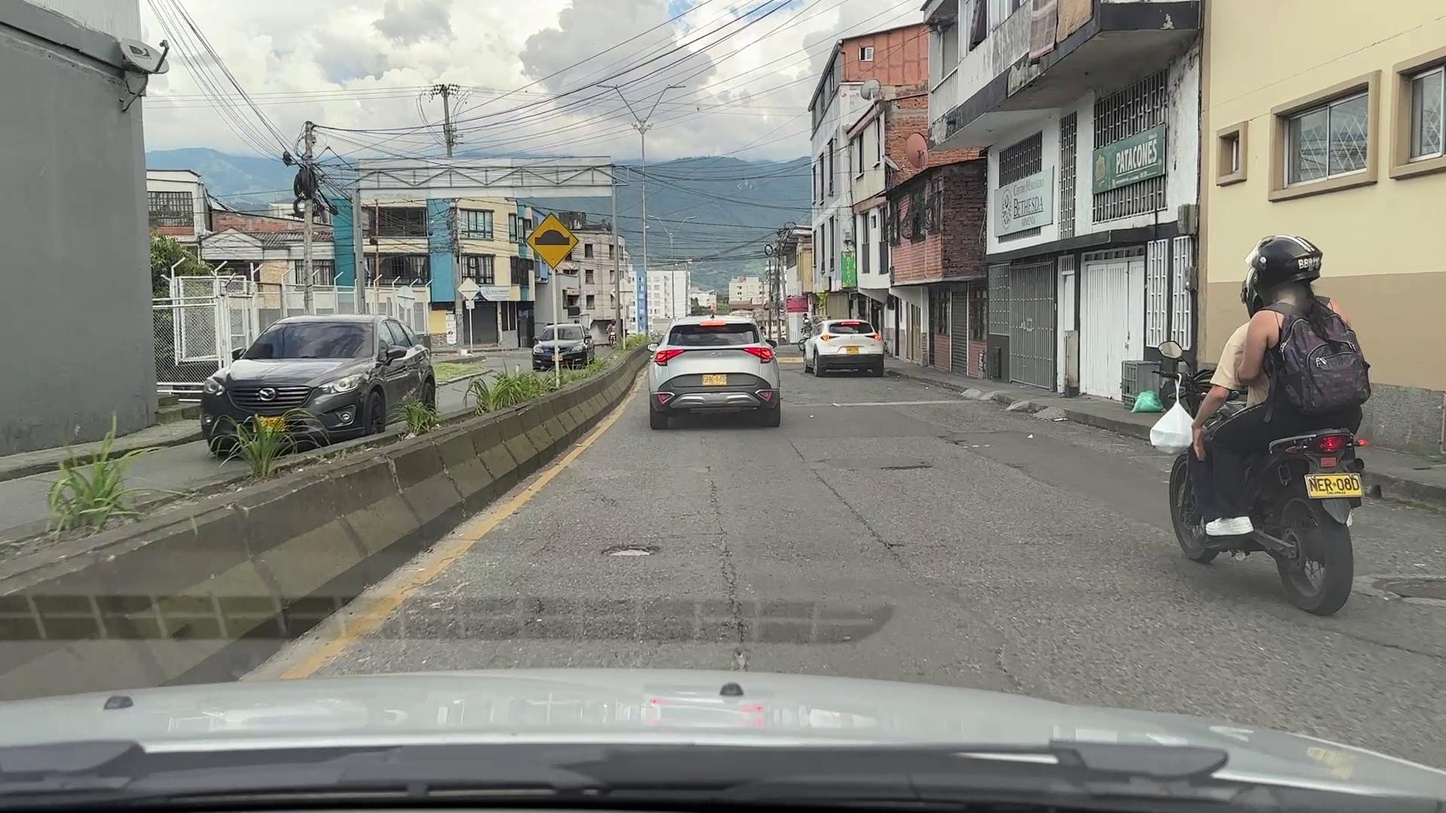bache: (602, 544, 659, 557), (883, 467, 930, 470)
grieta: (812, 470, 904, 550), (711, 479, 745, 643), (789, 440, 804, 460)
registro: (1377, 577, 1445, 600)
